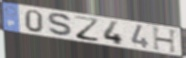0: (23, 9, 45, 33)
4: (102, 20, 126, 46), (130, 23, 150, 50)
H: (151, 26, 179, 55)
S: (46, 12, 76, 38)
Z: (73, 15, 101, 43)
